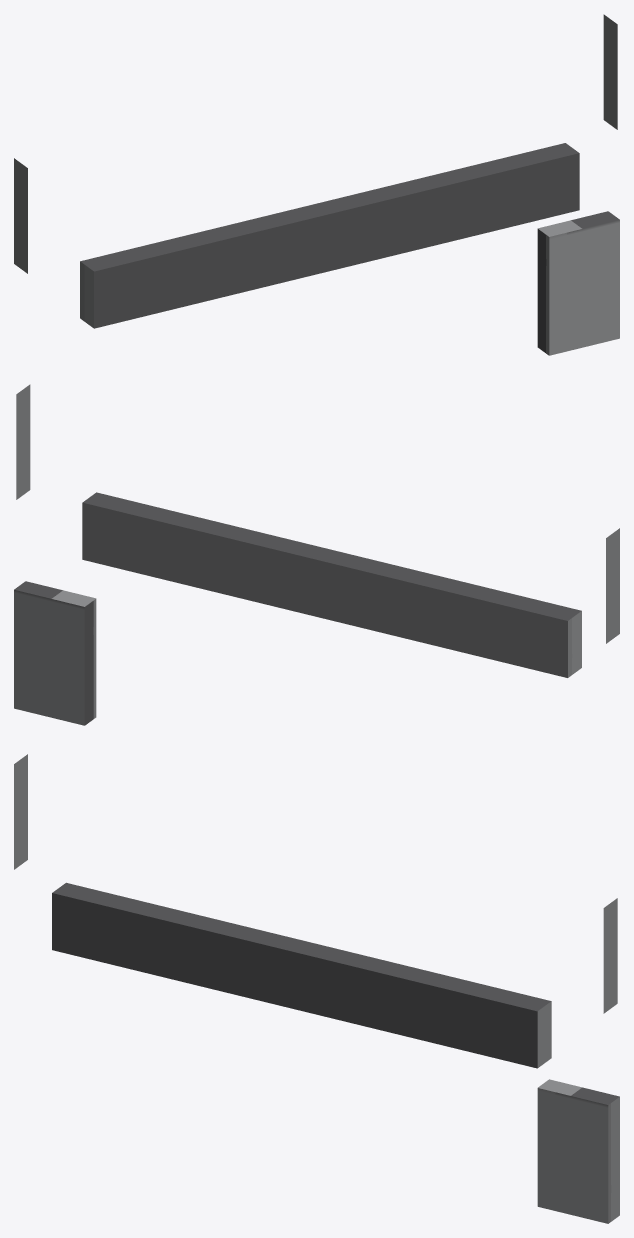
3 views of the same model, one above another, from view 1: azimuth 30°, elevation 25°; view 2: azimuth 150°, elevation 25°; view 3: azimuth 330°, elevation 25° (orthographic).
Size of the model in its own units: 0.2288 by 0.1164 by 0.0187.
